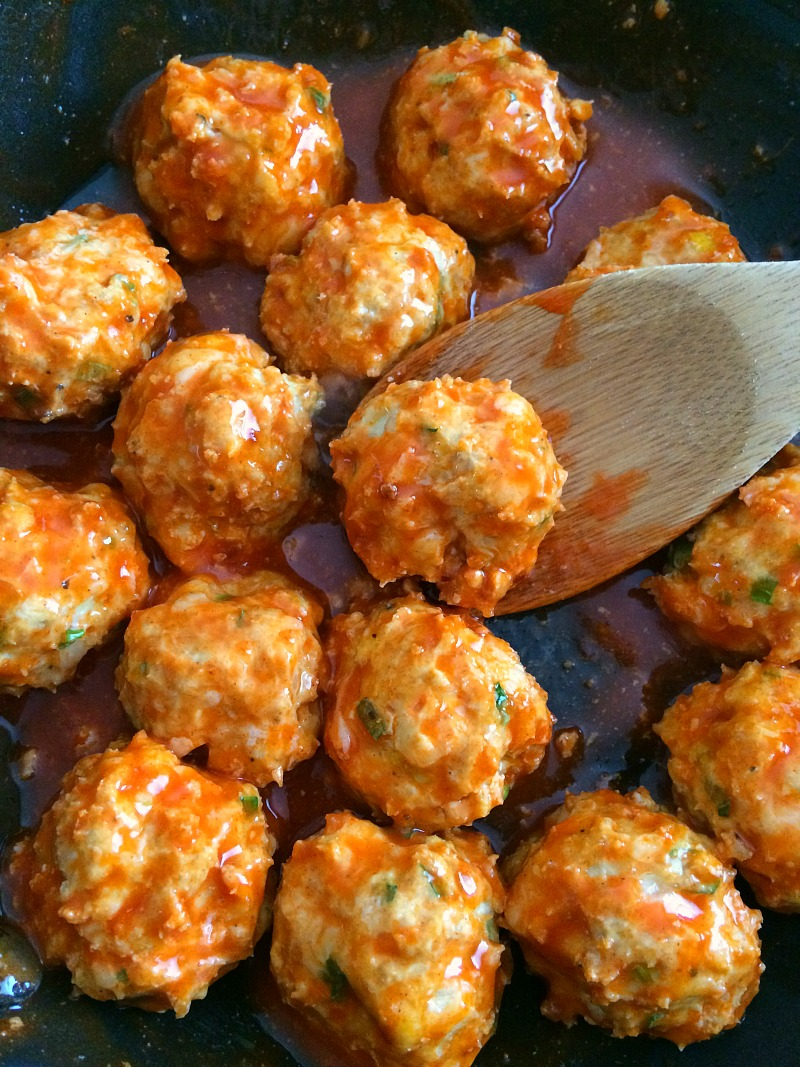meatballs: (1, 39, 787, 1035)
